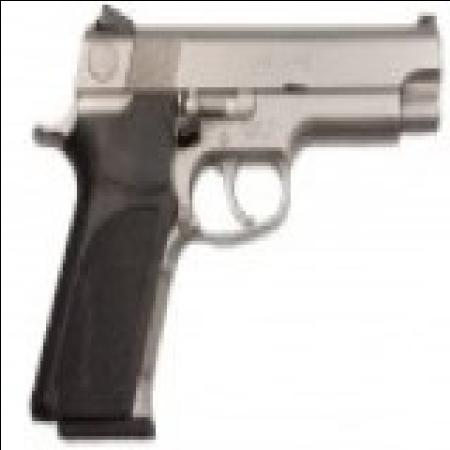Pistol: (28, 7, 442, 442)
